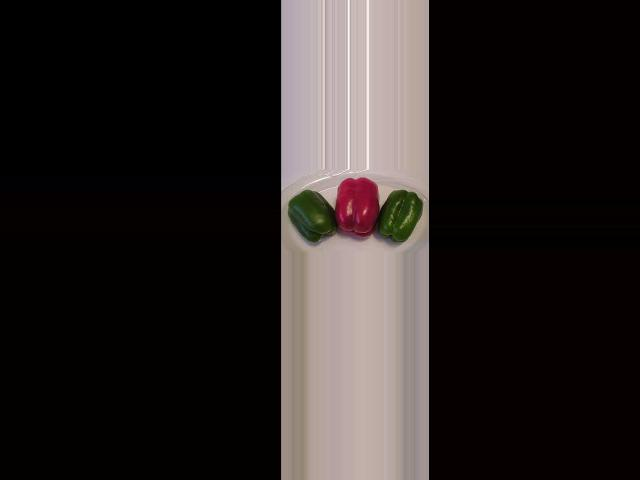bell_pepper: (285, 183, 337, 247)
